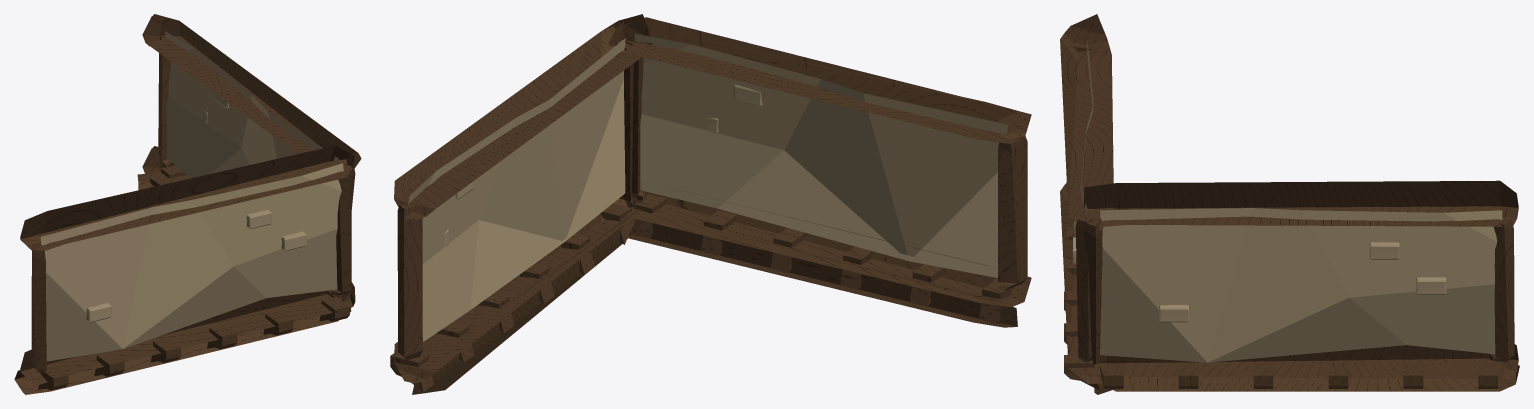
The model's file is second_story_corner.glb.
3 renders of one model, left to right at view 1: azimuth 30°, elevation 25°; view 2: azimuth 150°, elevation 25°; view 3: azimuth 270°, elevation 25°, orthographic. The views are drawn at different scales.
Parts seen in each view (by area): view 1: second_story_corner; view 2: second_story_corner; view 3: second_story_corner.
Boxes of the visible parts, x1=… form: second_story_corner: x1=14, y1=14, x2=361, y2=394; second_story_corner: x1=390, y1=14, x2=1031, y2=394; second_story_corner: x1=1060, y1=14, x2=1519, y2=394.
Bounding box in the file's own units: 12.61 × 6.47 × 12.98.
2 materials, 2 textured.
